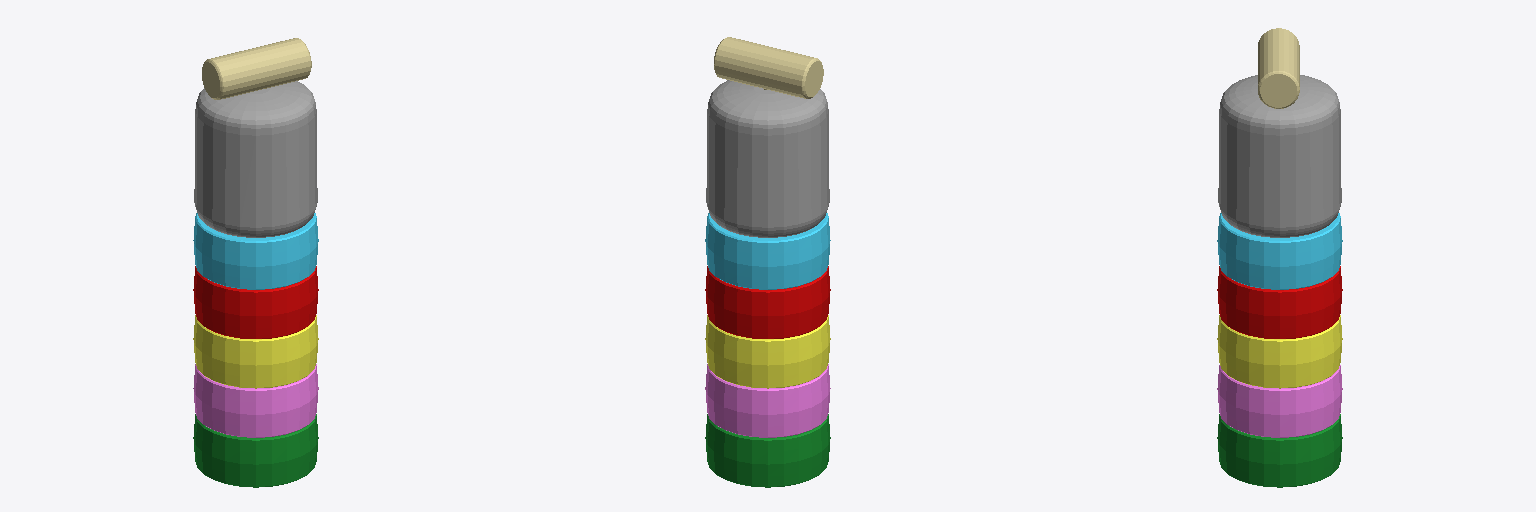
The model's file is darumaotoshi_obj.obj.
3 views of the same model, side by side, from view 1: azimuth 30°, elevation 25°; view 2: azimuth 150°, elevation 25°; view 3: azimuth 270°, elevation 25° (orthographic).
Parts seen in each view (by area): view 1: atama, otosi04, otosi01, otosi, otosi03, otosi02, hammer; view 2: atama, otosi04, otosi01, otosi, otosi03, otosi02, hammer; view 3: atama, otosi04, otosi, otosi01, otosi03, otosi02, hammer.
Part boxes in pixels (x1,y1,x2,y2): atama: (194, 81, 317, 237); otosi04: (193, 213, 318, 289); otosi01: (193, 364, 318, 437); otosi: (193, 414, 318, 487); otosi03: (193, 266, 318, 338); otosi02: (193, 315, 318, 388); hammer: (202, 38, 311, 99); atama: (706, 80, 829, 237); otosi04: (705, 213, 830, 289); otosi01: (705, 364, 830, 437); otosi: (705, 414, 830, 487); otosi03: (705, 266, 830, 338); otosi02: (705, 315, 830, 388); hammer: (714, 37, 823, 98); atama: (1218, 75, 1341, 237); otosi04: (1217, 213, 1342, 289); otosi: (1217, 414, 1342, 487); otosi01: (1217, 365, 1342, 437); otosi03: (1217, 266, 1342, 338); otosi02: (1217, 315, 1342, 388); hammer: (1258, 28, 1299, 108).
Size of the model in its own units: 0.7352 by 2.68 by 0.7352.